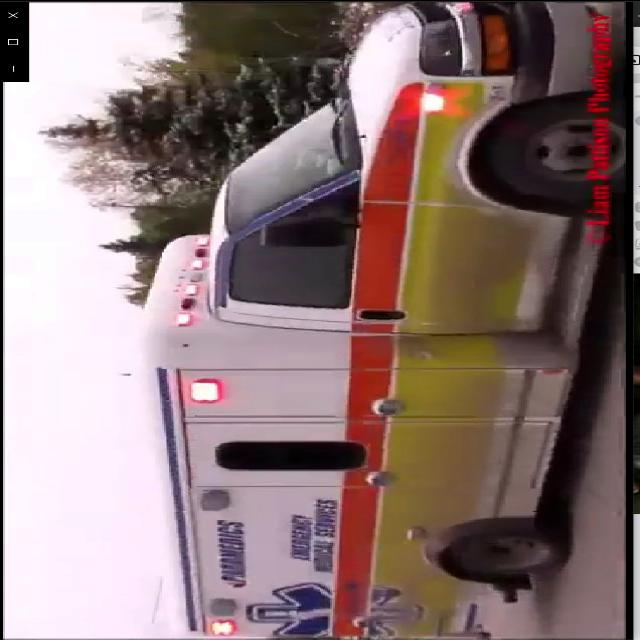emergency: (125, 0, 636, 639)
